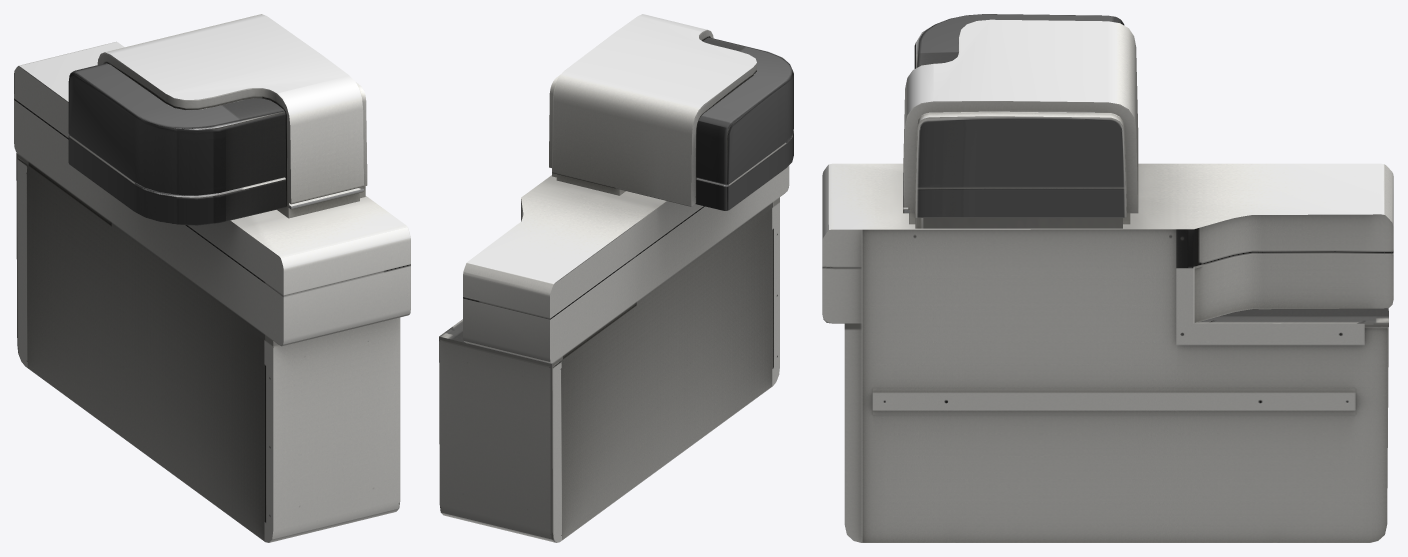
File: SHC.obj
3 views of the same model, side by side, from view 1: azimuth 30°, elevation 25°; view 2: azimuth 150°, elevation 25°; view 3: azimuth 270°, elevation 25° (orthographic). The views are drawn at different scales.
Visible parts, largest first — view 1: group002; view 2: group002; view 3: group002.
Part boxes in pixels (<box>): group002: <box>14,14,410,542</box>; group002: <box>439,14,793,542</box>; group002: <box>822,14,1393,542</box>.
Bounding box in the file's own units: 24.3 × 47.77 × 56.53.
1 material, 1 textured.
